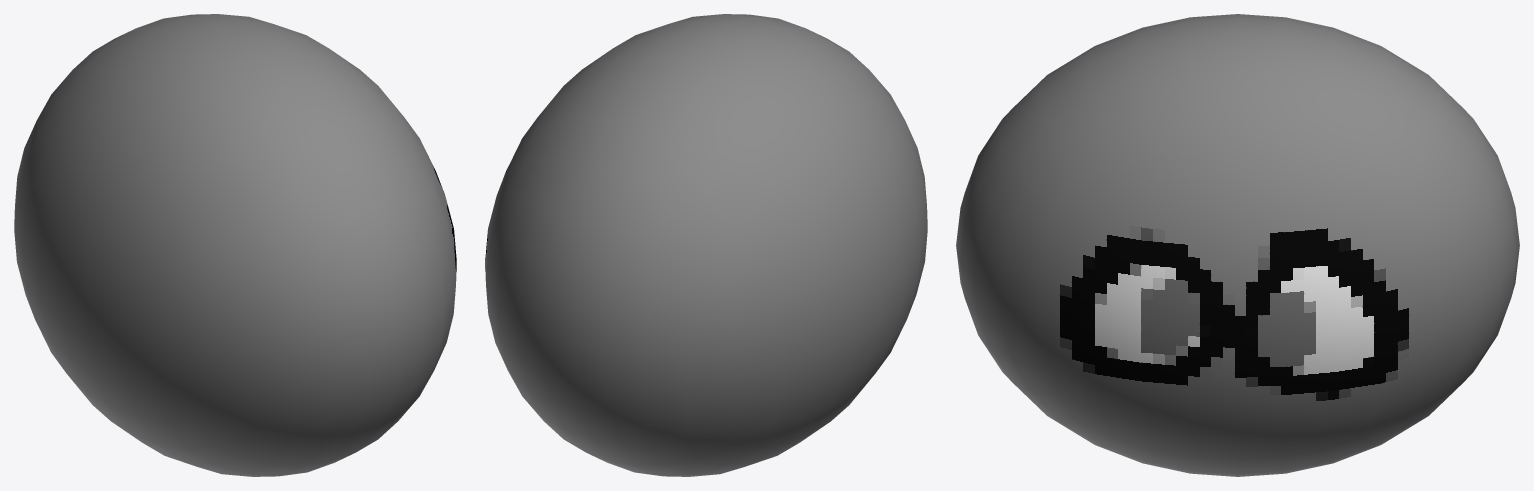
The model's file is bignuisancepuyo.glb.
3 renders of one model, left to right at view 1: azimuth 30°, elevation 25°; view 2: azimuth 150°, elevation 25°; view 3: azimuth 270°, elevation 25°, orthographic. The views are drawn at different scales.
Parts seen in each view (by area): view 1: NuiPuy; view 2: NuiPuy; view 3: NuiPuy.
Part boxes in pixels (x1,y1,x2,y2): NuiPuy: (14,14,456,476); NuiPuy: (485,14,927,476); NuiPuy: (956,14,1519,476).
Size of the model in its own units: 3 by 3.35 by 4.
1 material, 1 textured.
